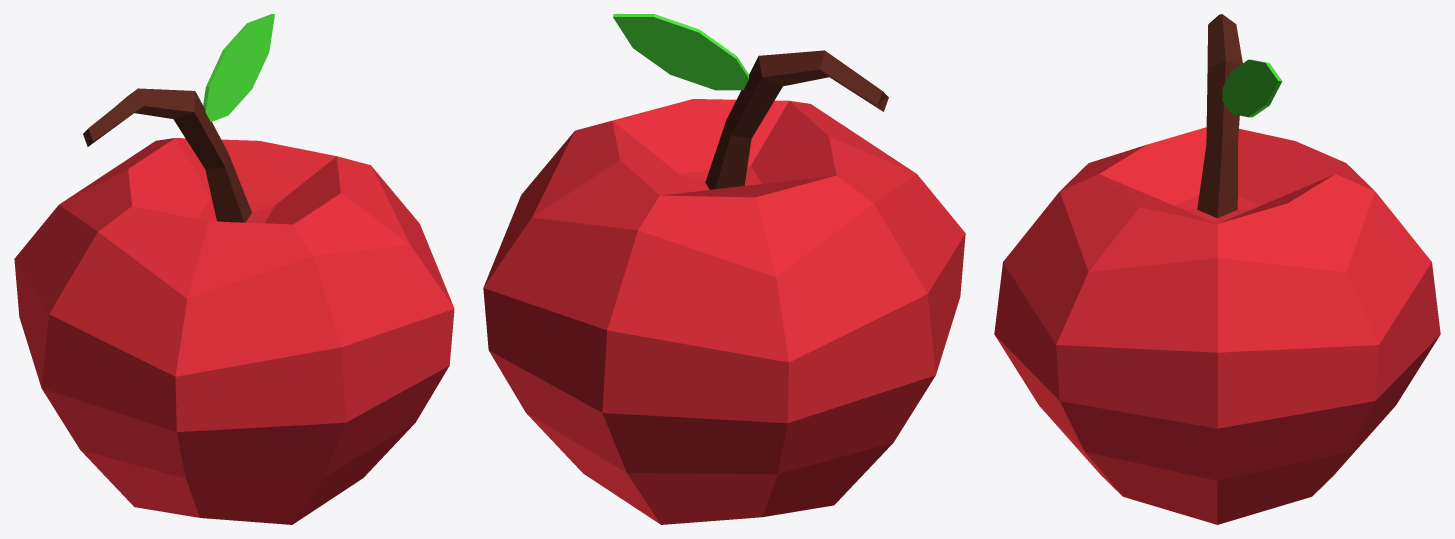
Rendered from Apple_cleaned_PS1.fbx.
The picture shows the model from 3 angles, left to right: view 1: azimuth 30°, elevation 25°; view 2: azimuth 150°, elevation 25°; view 3: azimuth 270°, elevation 25°; orthographic projection. The views are drawn at different scales.
Parts seen in each view (by area): view 1: Apple, Leaf; view 2: Apple, Leaf; view 3: Apple, Leaf.
Boxes of the visible parts, box(x1,y1,x2,y2) form: Apple: box(14, 88, 454, 524); Leaf: box(203, 14, 274, 121); Apple: box(483, 50, 965, 524); Leaf: box(613, 14, 748, 90); Apple: box(994, 14, 1440, 524); Leaf: box(1222, 59, 1282, 117).
Size of the model in its own units: 346 by 370 by 346.
